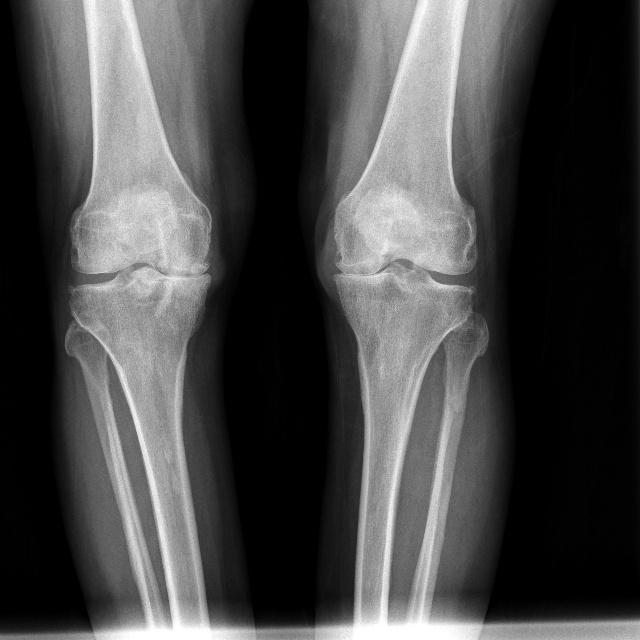Knee: (330, 201, 480, 342), (63, 205, 213, 341)
